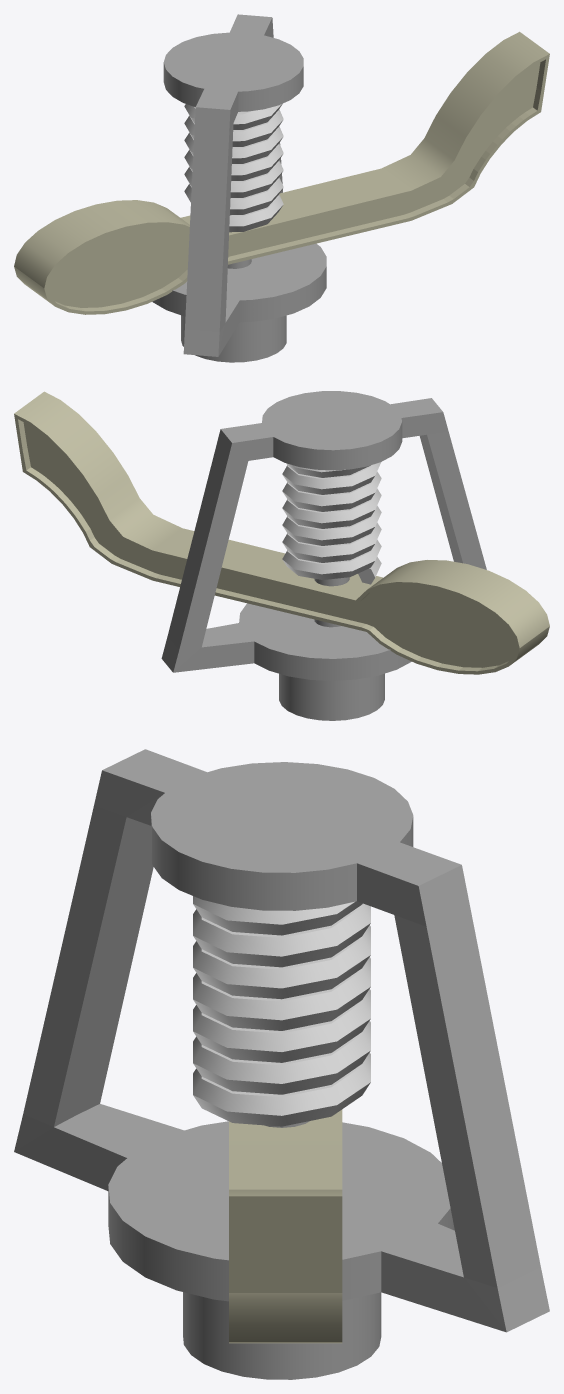
File: Sprinkler_Top.fbx
3 renders of one model, top to bottom at view 1: azimuth 30°, elevation 25°; view 2: azimuth 150°, elevation 25°; view 3: azimuth 270°, elevation 25°, orthographic. The views are drawn at different scales.
Visible parts, largest first — view 1: Sprinkler_Arm, Top, Sprinkler_Spring; view 2: Top, Sprinkler_Arm, Sprinkler_Spring; view 3: Top, Sprinkler_Spring, Sprinkler_Arm.
Boxes of the visible parts, x1=… form: Sprinkler_Arm: x1=14, y1=31, x2=549, y2=314; Top: x1=152, y1=14, x2=326, y2=362; Sprinkler_Spring: x1=184, y1=104, x2=283, y2=232; Top: x1=161, y1=391, x2=486, y2=720; Sprinkler_Arm: x1=14, y1=391, x2=549, y2=674; Sprinkler_Spring: x1=282, y1=462, x2=381, y2=584; Top: x1=14, y1=749, x2=549, y2=1379; Sprinkler_Spring: x1=193, y1=896, x2=370, y2=1126; Sprinkler_Arm: x1=229, y1=1109, x2=342, y2=1343.
Bounding box in the file's own units: 12.09 × 6.62 × 5.93.
